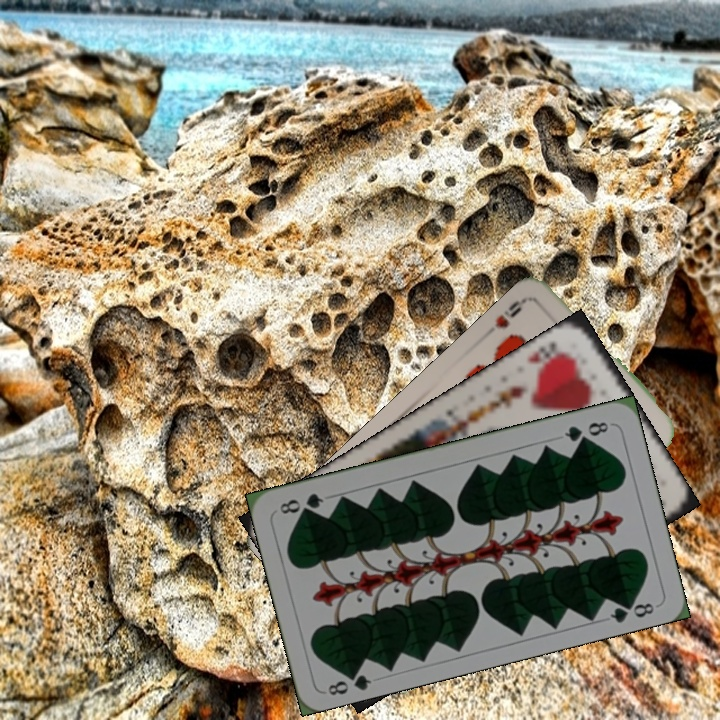G8: (324, 664, 374, 698), (560, 417, 611, 444)
H9: (491, 294, 529, 331)
HK: (524, 336, 572, 367)
